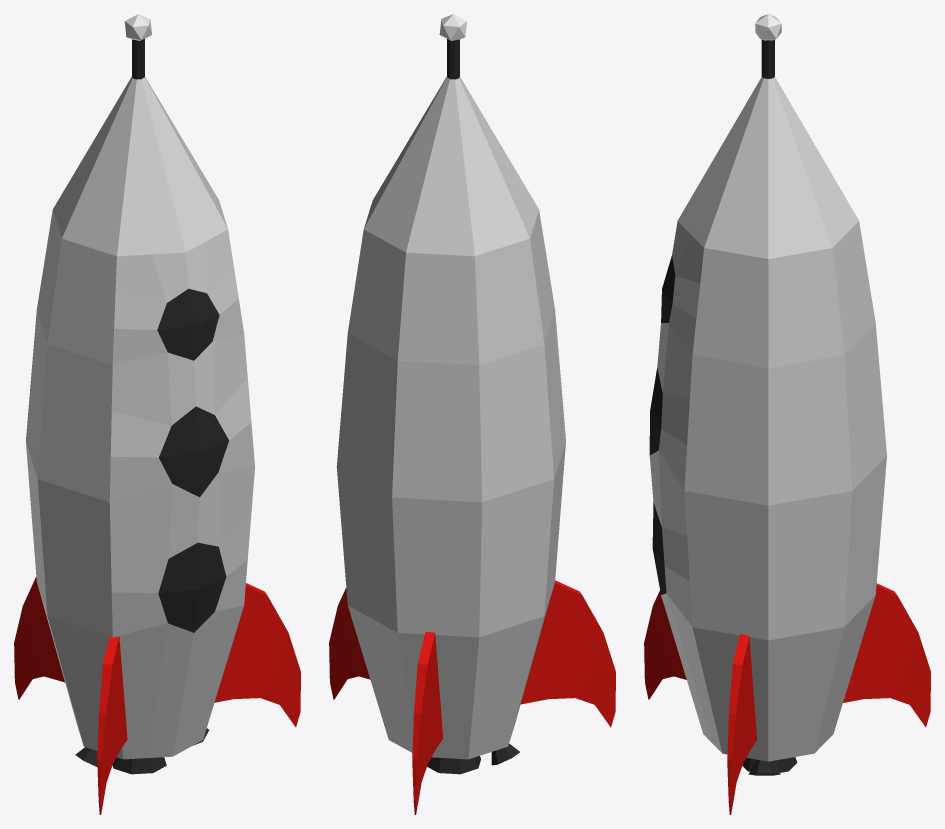
File: RocketTest.fbx
The picture shows the model from 3 angles, left to right: view 1: azimuth 30°, elevation 25°; view 2: azimuth 150°, elevation 25°; view 3: azimuth 270°, elevation 25°; orthographic projection.
Parts seen in each view (by area): view 1: Cylinder, Cube, Cube.002, Cube.001, Icosphere; view 2: Cylinder, Cube.001, Cube.002, Cube, Icosphere; view 3: Cylinder, Cube.002, Cube, Cube.001, Icosphere, Cylinder.001.
Boxes of the visible parts, x1=… form: Cylinder: x1=26, y1=76, x2=254, y2=774; Cube: x1=214, y1=583, x2=300, y2=727; Cube.002: x1=14, y1=577, x2=64, y2=699; Cube.001: x1=97, y1=636, x2=127, y2=814; Icosphere: x1=124, y1=14, x2=151, y2=40; Cylinder: x1=336, y1=76, x2=565, y2=774; Cube.001: x1=520, y1=580, x2=615, y2=727; Cube.002: x1=412, y1=631, x2=443, y2=814; Cube: x1=329, y1=588, x2=370, y2=699; Icosphere: x1=439, y1=14, x2=467, y2=40; Cylinder: x1=649, y1=77, x2=886, y2=772; Cube.002: x1=843, y1=583, x2=930, y2=727; Cube: x1=727, y1=633, x2=756, y2=814; Cube.001: x1=644, y1=590, x2=686, y2=699; Icosphere: x1=755, y1=14, x2=781, y2=40; Cylinder.001: x1=761, y1=39, x2=774, y2=78.
Bounding box in the file's own units: 311 × 910 × 316.
